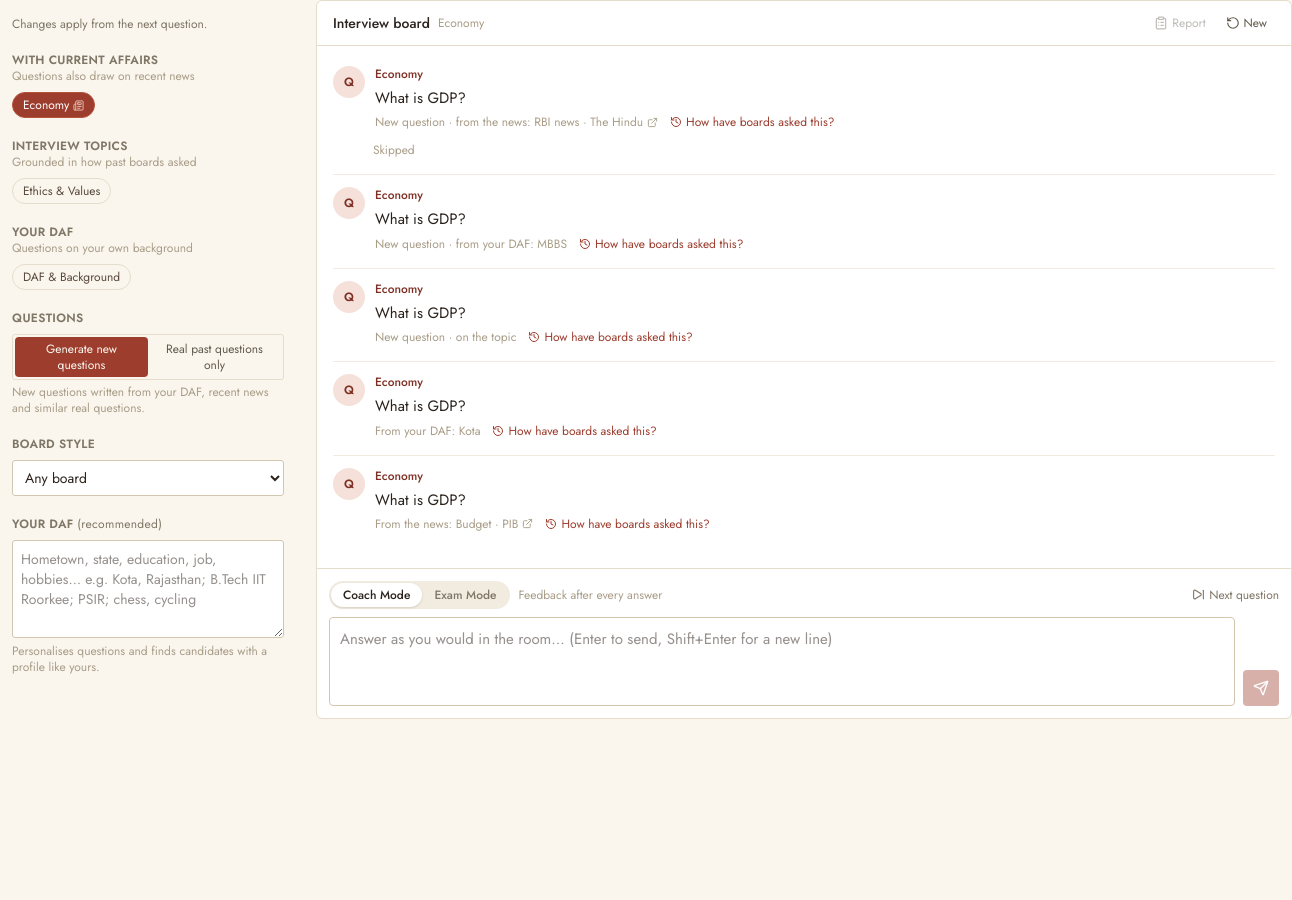
Test: resumes a saved session and shows every kind of question source
Expected: the link "New question · from the news: RBI news · The Hindu" is shown, left=375, top=114, right=658, bottom=130
Expected: the text "Skipped" is shown, left=373, top=141, right=415, bottom=159
Click the button "How have boards asked this?" next to "The Hindu": (752, 122) left=670, top=114, right=834, bottom=130
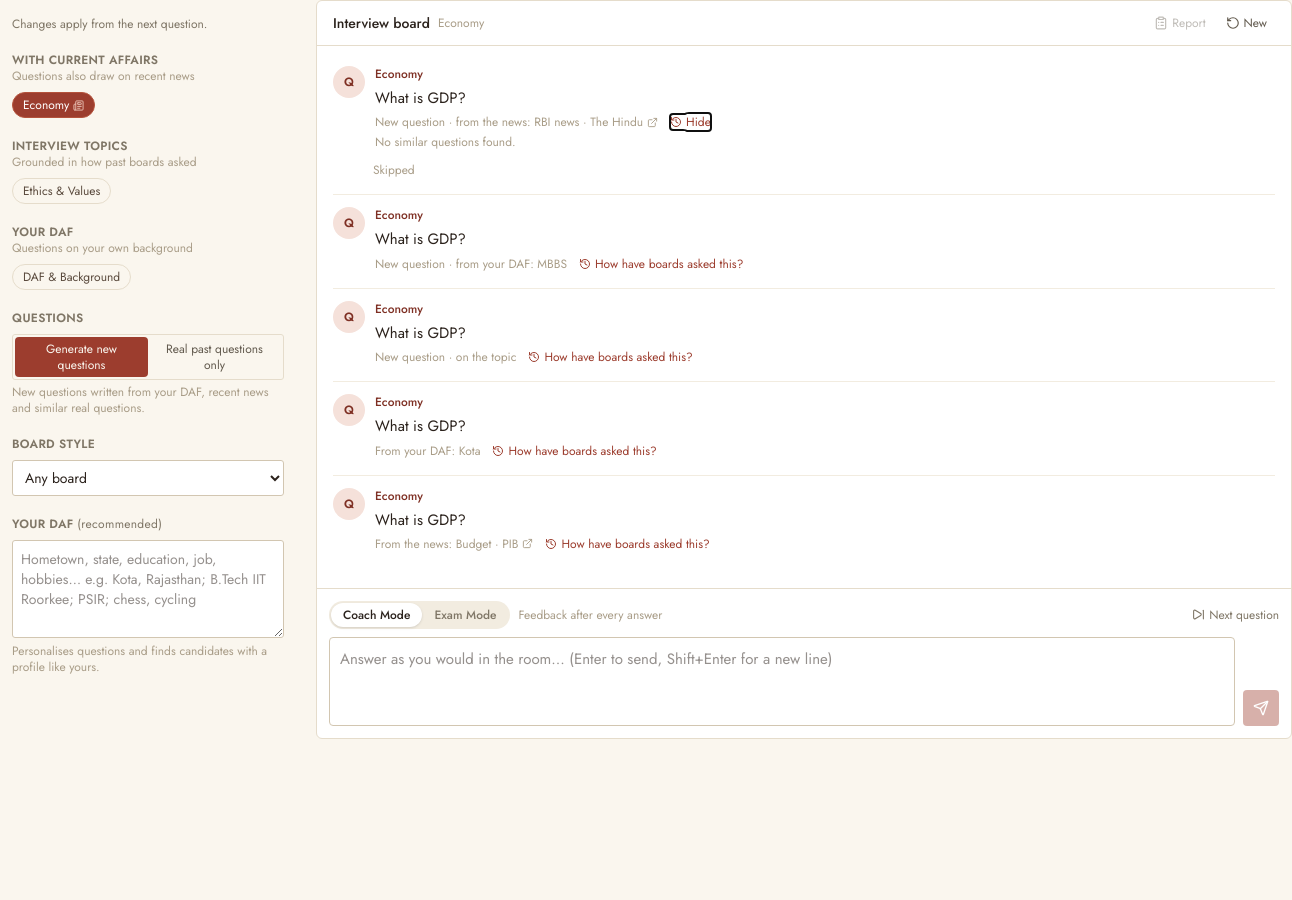
Expected: the text "No similar questions found." is shown, left=375, top=133, right=516, bottom=151
